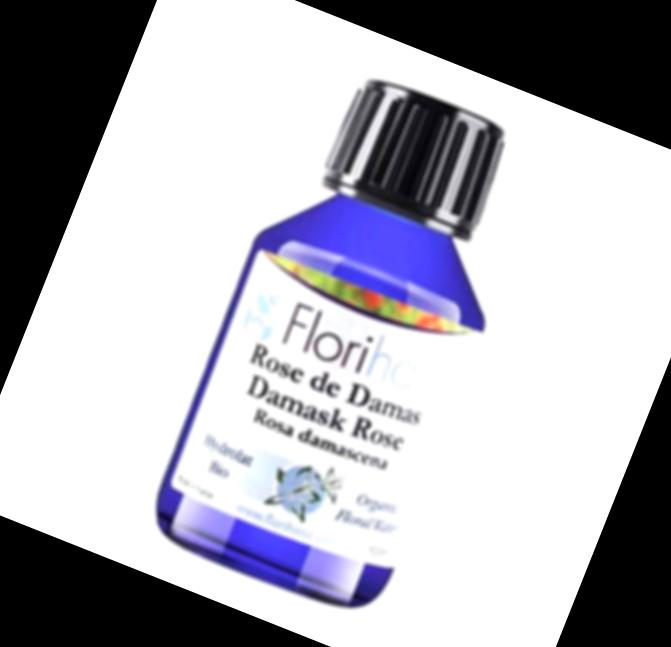cosmetic: (135, 51, 563, 622)
